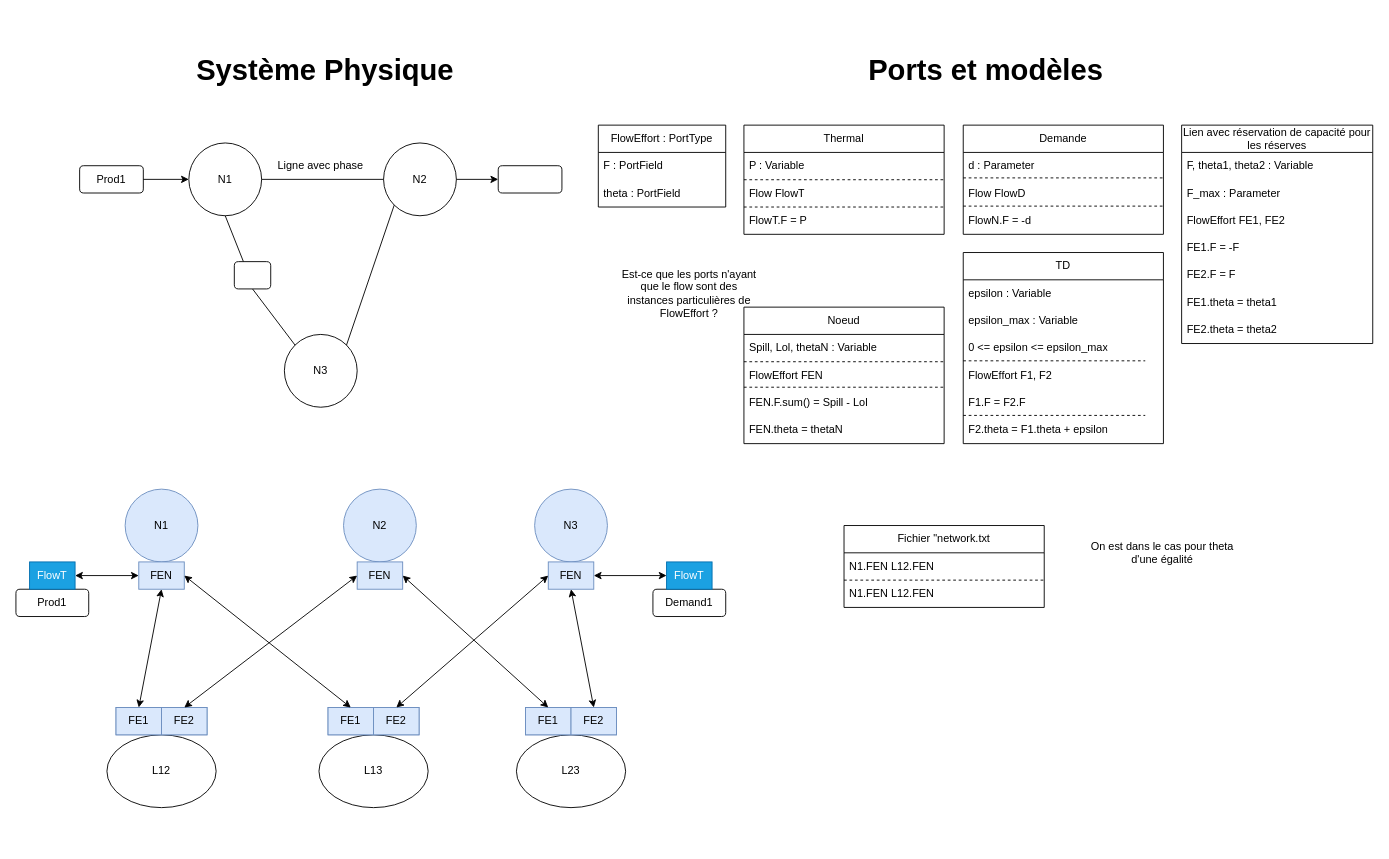
Some shapes in this 1389 by 859 pixel diagram are drawn without their labels. Here are the shapes that lost their labels. From the top down, the centre of each, then its label:
the point at 529,179: Demande2
the point at 252,275: TD13
